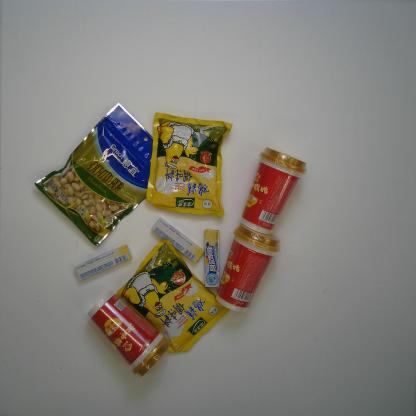Candy: (150, 217, 204, 263), (74, 244, 132, 282), (204, 228, 221, 288)
Dried Fruit: (33, 101, 153, 247)
Instant Drink: (86, 290, 170, 378), (240, 146, 308, 236), (215, 223, 281, 314)
Seasoner: (116, 237, 231, 354), (145, 111, 234, 218)
